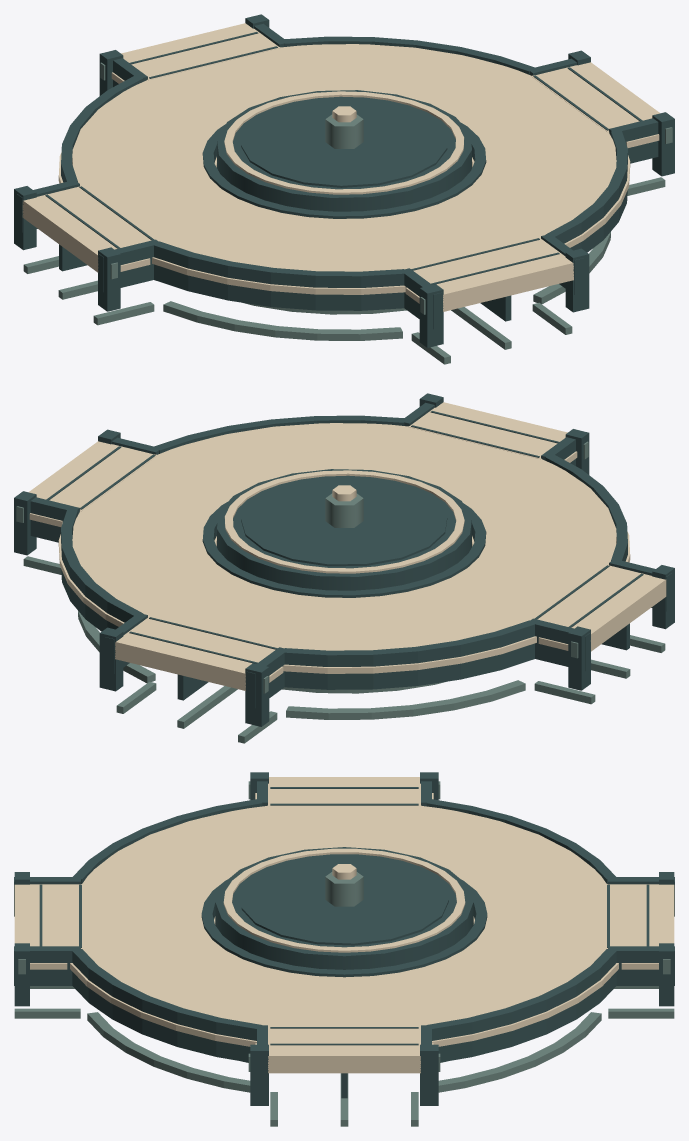
File: Round_4_lab2.glb
3 renders of one model, top to bottom at view 1: azimuth 30°, elevation 25°; view 2: azimuth 150°, elevation 25°; view 3: azimuth 270°, elevation 25°, orthographic.
Visible parts, largest first — view 1: Round_4; view 2: Round_4; view 3: Round_4.
Boxes of the visible parts, left/top/right/bottom form: Round_4: left=14, top=14, right=674, bottom=364; Round_4: left=14, top=393, right=674, bottom=743; Round_4: left=14, top=772, right=674, bottom=1126.
Size of the model in its own units: 12.02 by 2.39 by 12.02.
